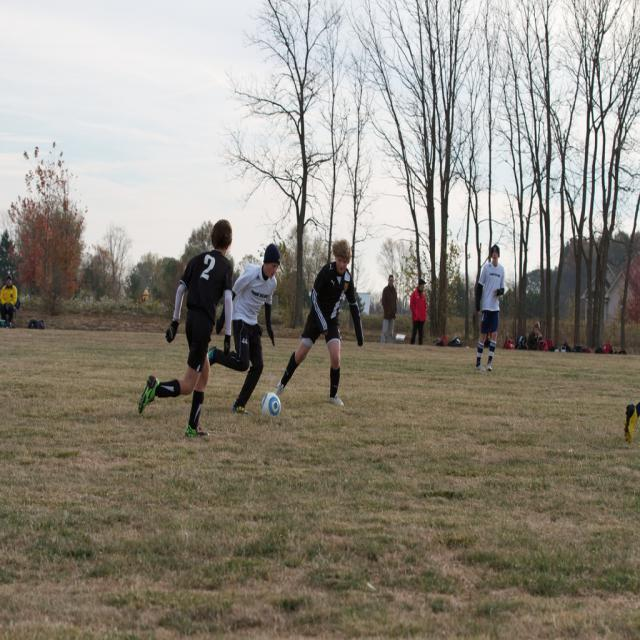football: (255, 385, 293, 425)
